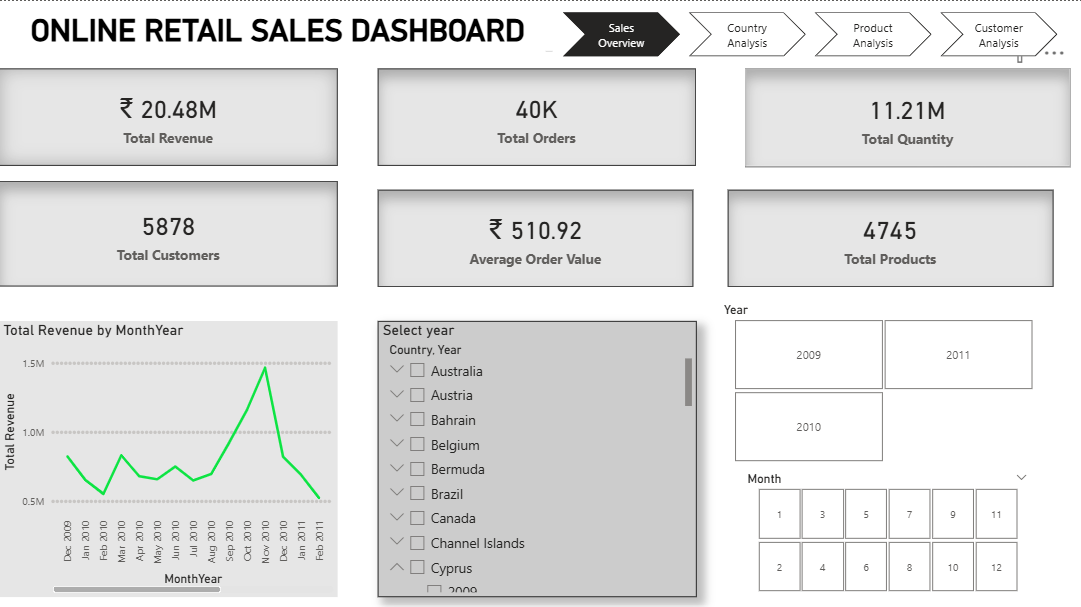

The page's visual inventory and layout, read from the dashboard file:
{"tool":"powerbi","page":{"name":"Sales Overview","canvas":[1280,720],"ordinal":0},"visuals":[{"type":"card","fields":{"Values":["cleaned_sales_data.Total Revenue"]},"box":[13.5,80.7,398.6,114.9],"z":0},{"type":"card","fields":{"Values":["cleaned_sales_data.Total Orders"]},"box":[445.7,80,374.3,114.3],"z":1000},{"type":"card","fields":{"Values":["cleaned_sales_data.Total Products"]},"box":[876.8,216.4,382.7,114.9],"z":2000},{"type":"card","fields":{"Values":["cleaned_sales_data.Total Quantity"]},"box":[877.9,79.4,382.4,116.2],"z":3000},{"type":"card","fields":{"Values":["cleaned_sales_data.Total Customers"]},"box":[13.5,211.6,398.6,124.7],"z":4000},{"type":"card","fields":{"Values":["cleaned_sales_data.Average Order Value"]},"box":[445.7,221.4,371.4,114.3],"z":5000},{"type":"textbox","title":"ONLINE RETAIL SALES DASHBOARD","box":[0,13.2,655.9,51.5],"z":6000},{"type":"lineChart","fields":{"Y":["cleaned_sales_data.Total Revenue"],"Category":["cleaned_sales_data.MonthYear"]},"box":[0,376.5,398.5,325],"z":7000},{"type":"slicer","fields":{"Values":["cleaned_sales_data.Month"]},"box":[878,561.3,381.5,140.6],"z":8000},{"type":"slicer","fields":{"Values":["cleaned_sales_data.Year"]},"box":[876.8,349.7,382.7,199.3],"z":9000},{"type":"slicer","title":"Select year","fields":{"Values":["cleaned_sales_data.Country","cleaned_sales_data.Year"]},"box":[445.6,376.5,375,325],"z":10000},{"type":"pageNavigator","box":[663.2,13.2,583.8,52.9],"z":11000}]}

Visuals, with their boxes in screenshot pixels (x1, y1, x2, y2), scaled from the page's 1280x720 canvas onto the 1081x607 screenshot:
card - cleaned_sales_data.Total Revenue: box=[11, 68, 348, 165]
card - cleaned_sales_data.Total Orders: box=[376, 67, 693, 164]
card - cleaned_sales_data.Total Products: box=[740, 182, 1064, 279]
card - cleaned_sales_data.Total Quantity: box=[741, 67, 1064, 165]
card - cleaned_sales_data.Total Customers: box=[11, 178, 348, 284]
card - cleaned_sales_data.Average Order Value: box=[376, 187, 690, 283]
"ONLINE RETAIL SALES DASHBOARD" textbox: box=[0, 11, 554, 55]
lineChart - cleaned_sales_data.Total Revenue x cleaned_sales_data.MonthYear: box=[0, 317, 337, 591]
slicer - cleaned_sales_data.Month: box=[741, 473, 1064, 592]
slicer - cleaned_sales_data.Year: box=[740, 295, 1064, 463]
"Select year" slicer: box=[376, 317, 693, 591]
pageNavigator: box=[560, 11, 1053, 56]
